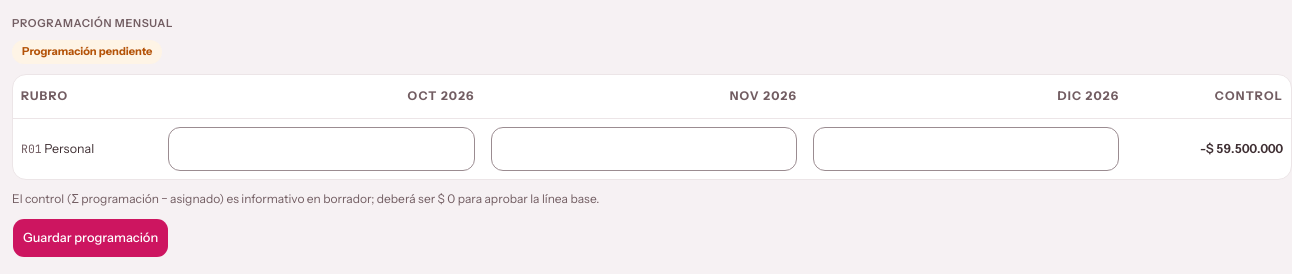
Test: PresupuestoProgramacion › keeps the typed text while focused and groups thousands on blur
The width and height of the screenshot is (1292, 274).
Type "1234567" into the field named "Programado R01 oct 2026" at (322, 149), box [168,127,475,171]
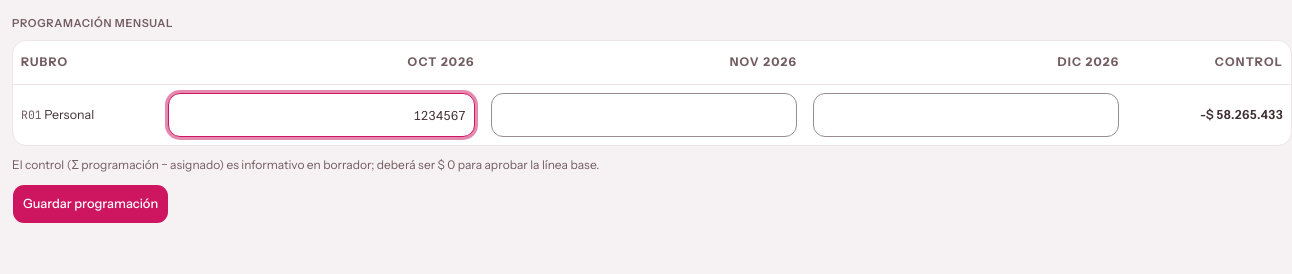
Press Tab
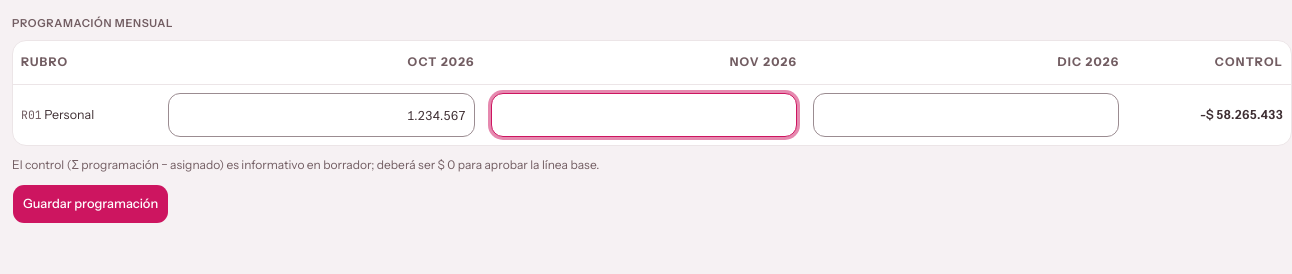
Expected: the row with test id "programacion-fila" shows "-$ 58.265.433", [1200,107,1283,122]
Expected: the field named "Programado R01 oct 2026" holds "1.234.567", [168,93,475,137]
